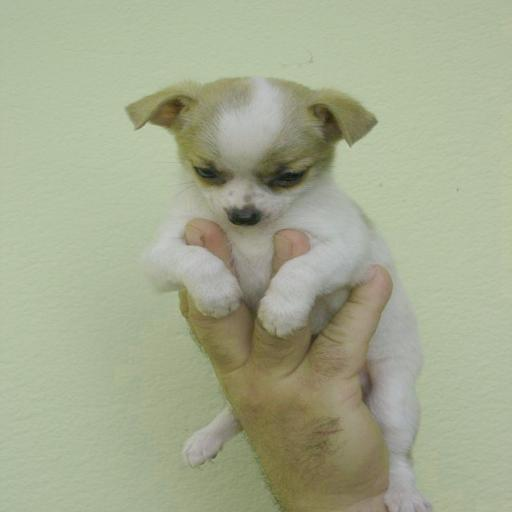dog_face: (117, 70, 366, 232)
